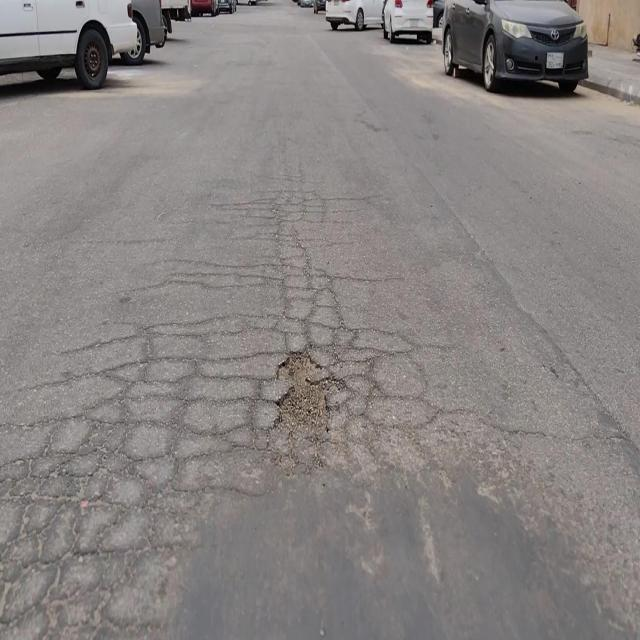Pothole: (271, 349, 335, 440)
